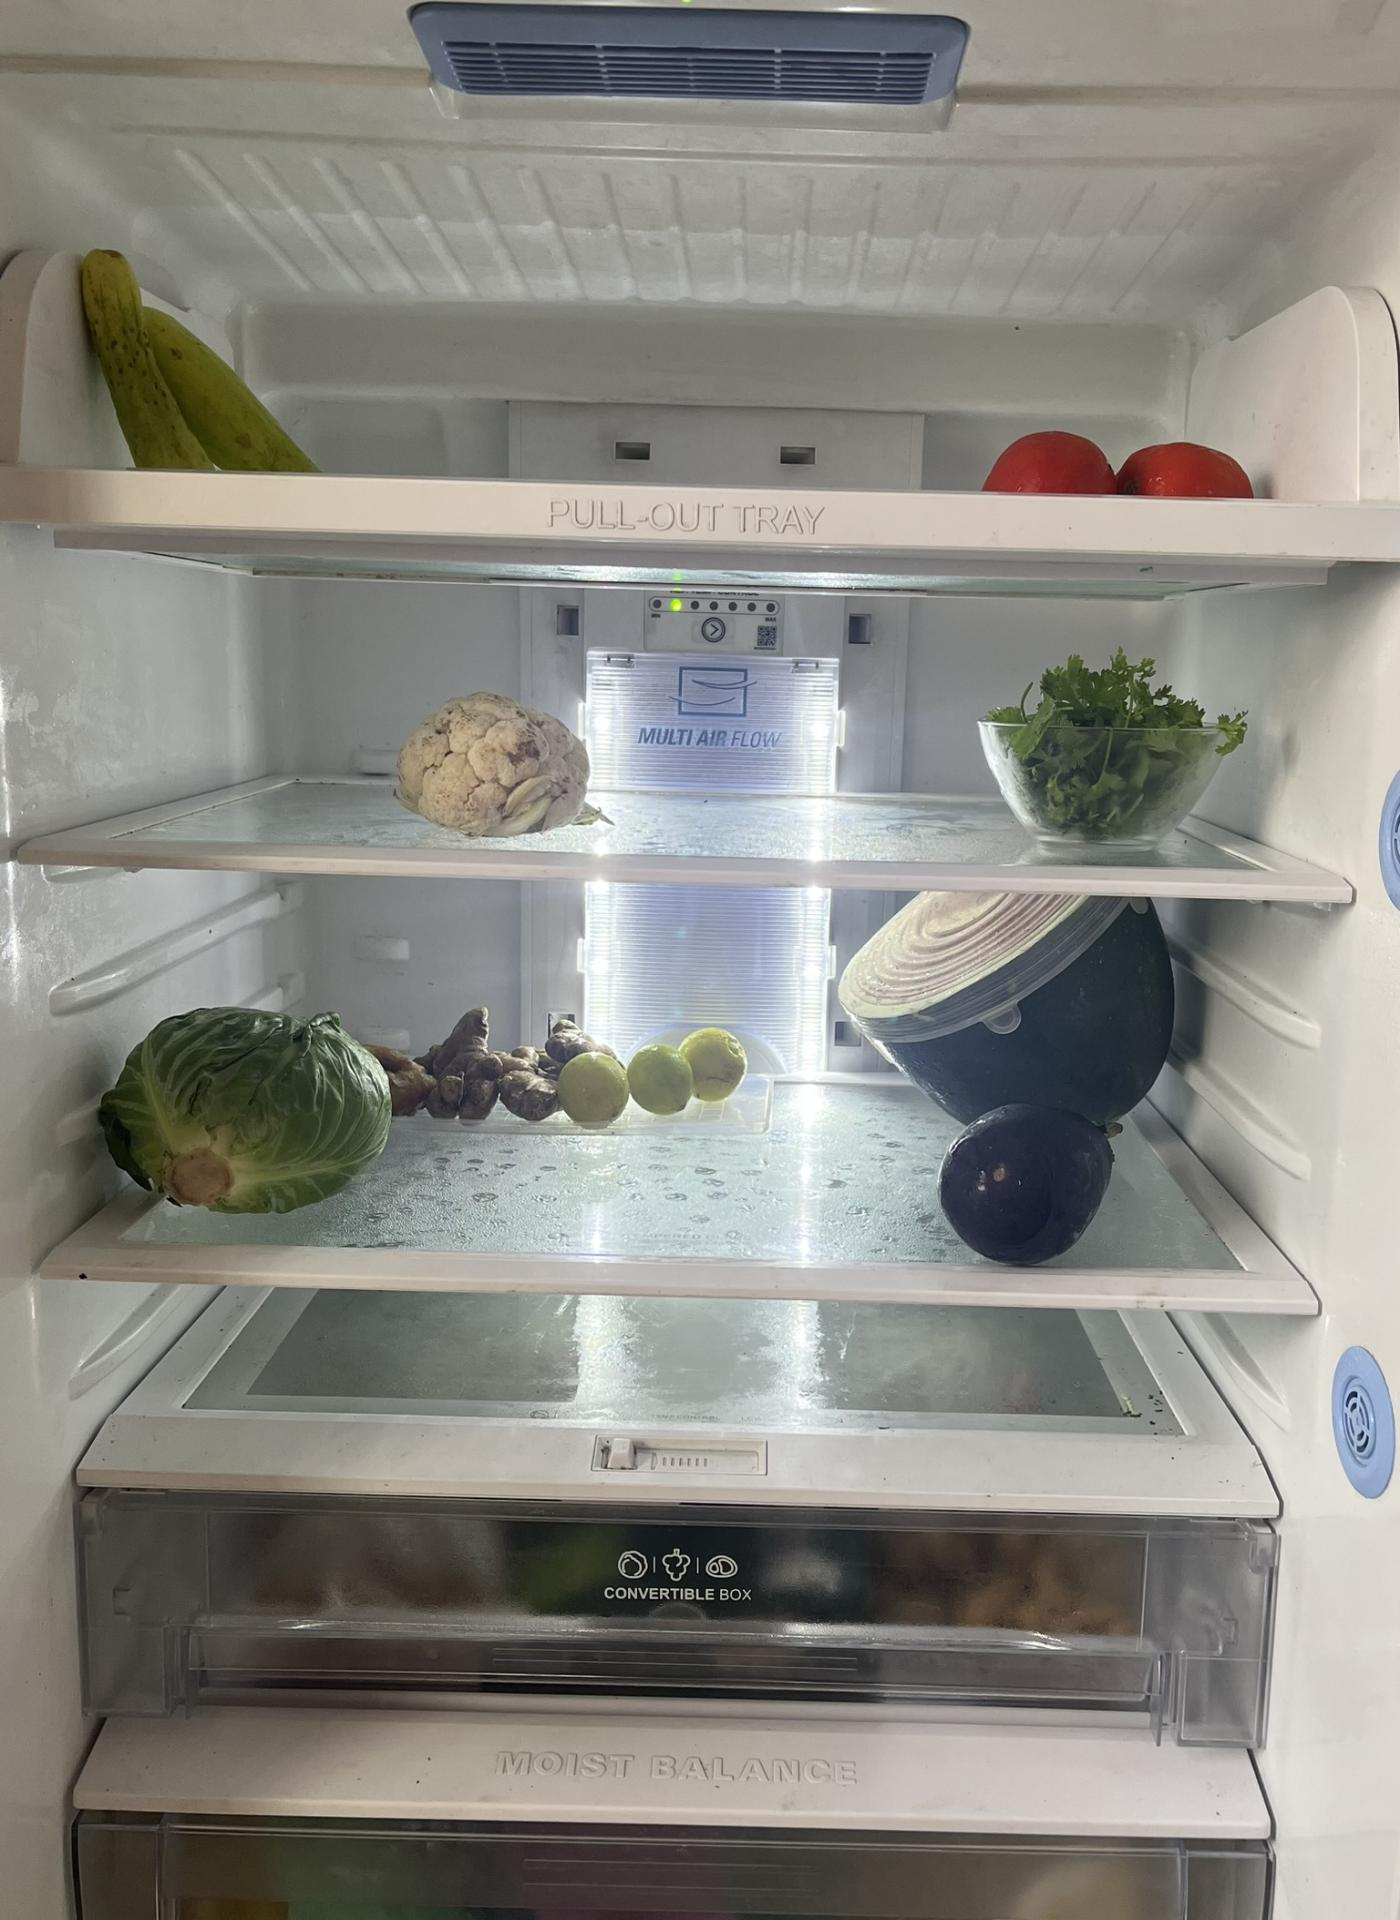brinjal: (939, 1103, 1147, 1257)
cabbage: (106, 1015, 389, 1209)
cauliflower: (395, 687, 605, 838)
coriander: (987, 644, 1233, 832)
cucumber: (76, 243, 321, 479)
ginger: (383, 1006, 574, 1133)
lemon: (559, 1021, 751, 1125)
tomato: (977, 417, 1252, 496)
watermelon: (835, 897, 1173, 1240)
